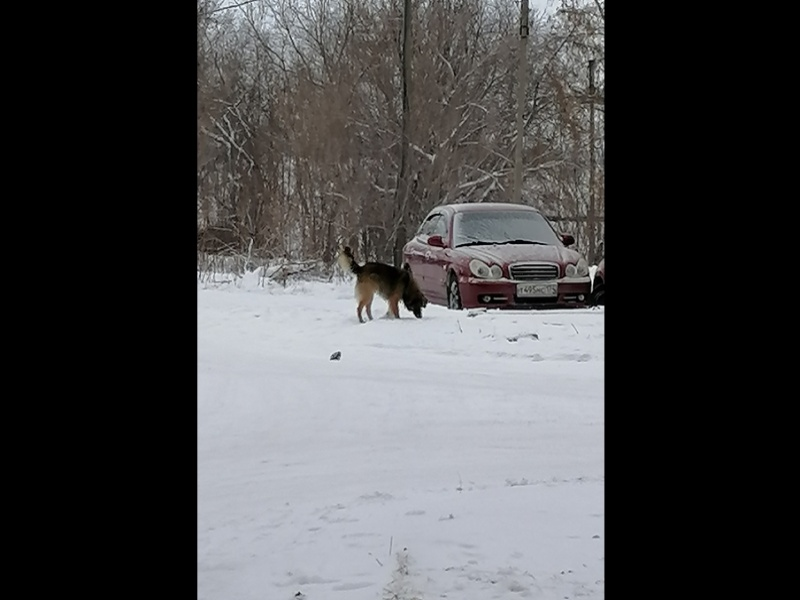dog: (340, 245, 429, 323)
